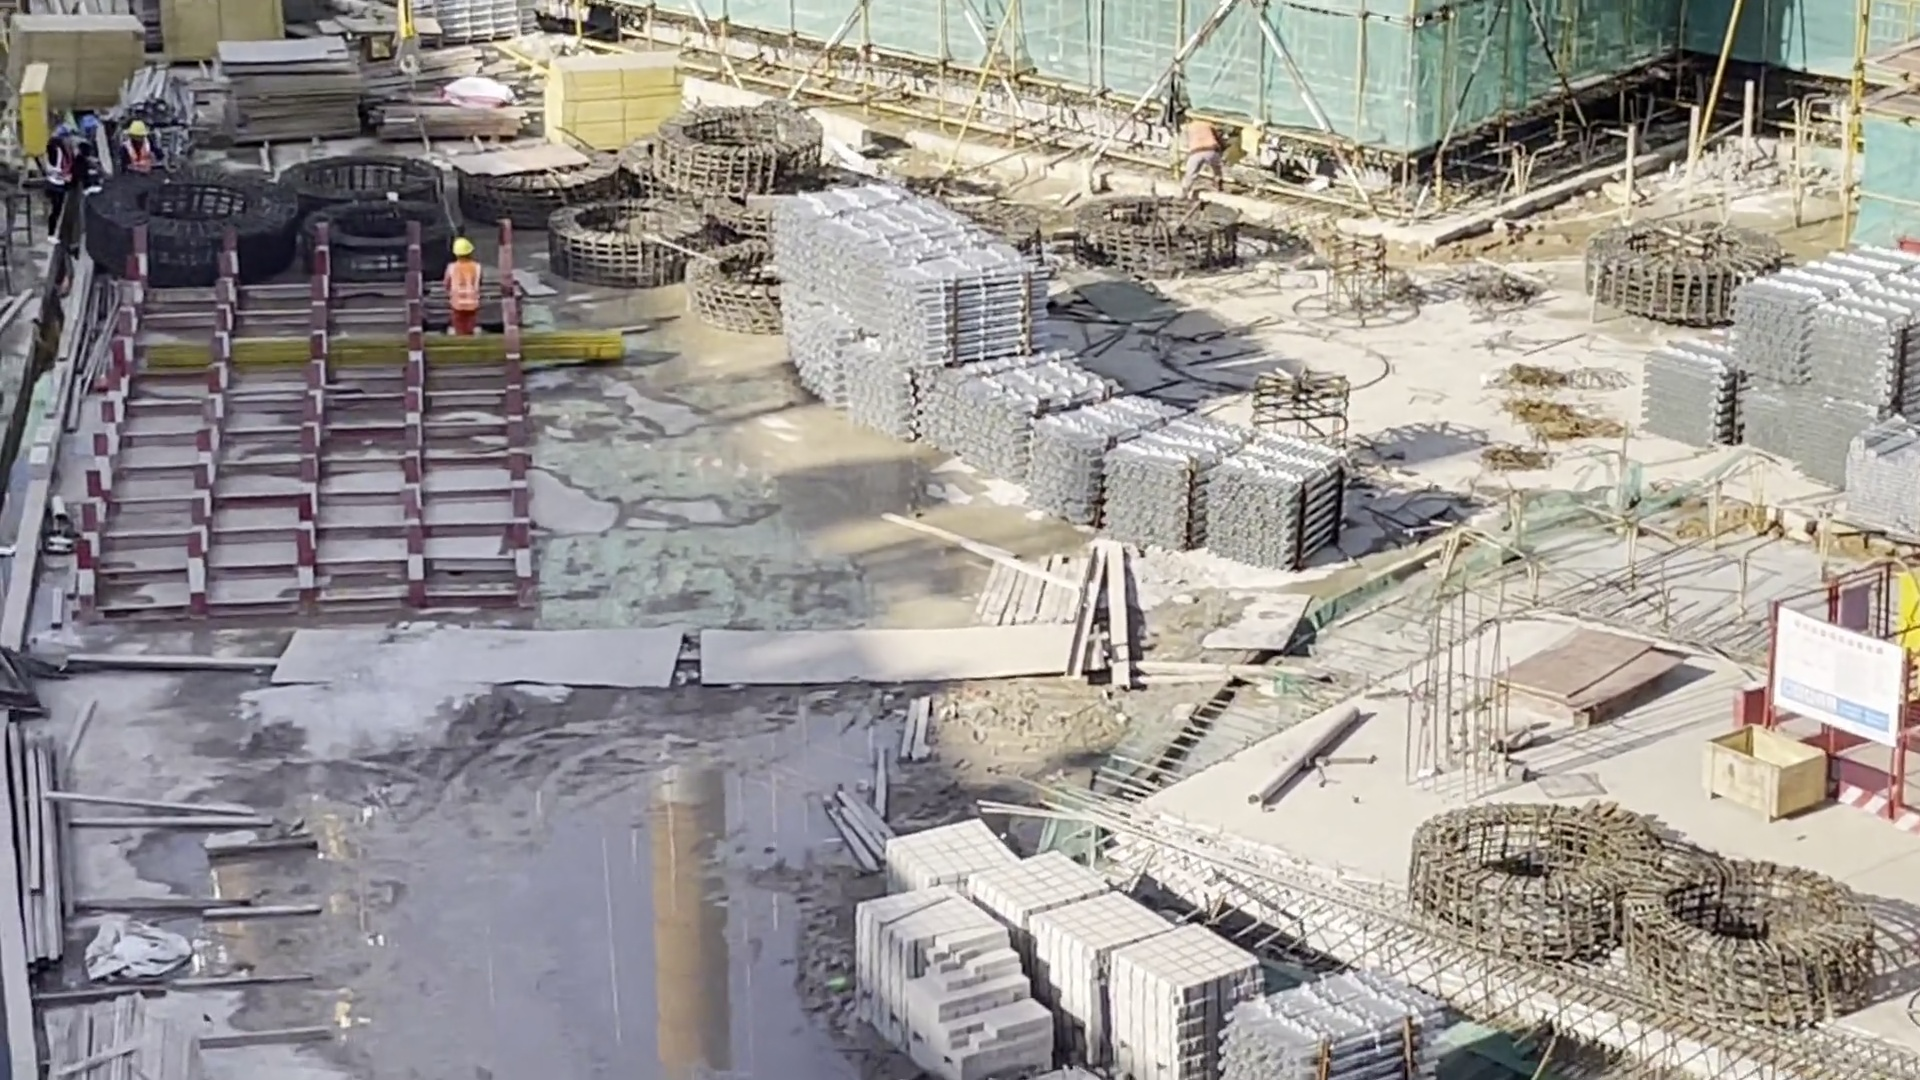board: (1505, 627, 1674, 730), (208, 37, 358, 135), (544, 54, 679, 149), (12, 16, 140, 112), (158, 1, 296, 49)
brick: (856, 830, 1240, 1079)
ebox: (19, 64, 51, 151), (1893, 568, 1919, 670)
helmet: (451, 238, 473, 255), (127, 123, 148, 137)
person: (446, 237, 483, 333), (1185, 120, 1217, 193), (124, 123, 151, 173)
scaffold: (779, 196, 1048, 430), (1039, 408, 1347, 569), (1739, 251, 1920, 478), (1225, 976, 1438, 1080), (961, 366, 1119, 483), (1646, 337, 1742, 446)
vest: (450, 264, 478, 311), (1188, 120, 1216, 153), (124, 147, 148, 166)
